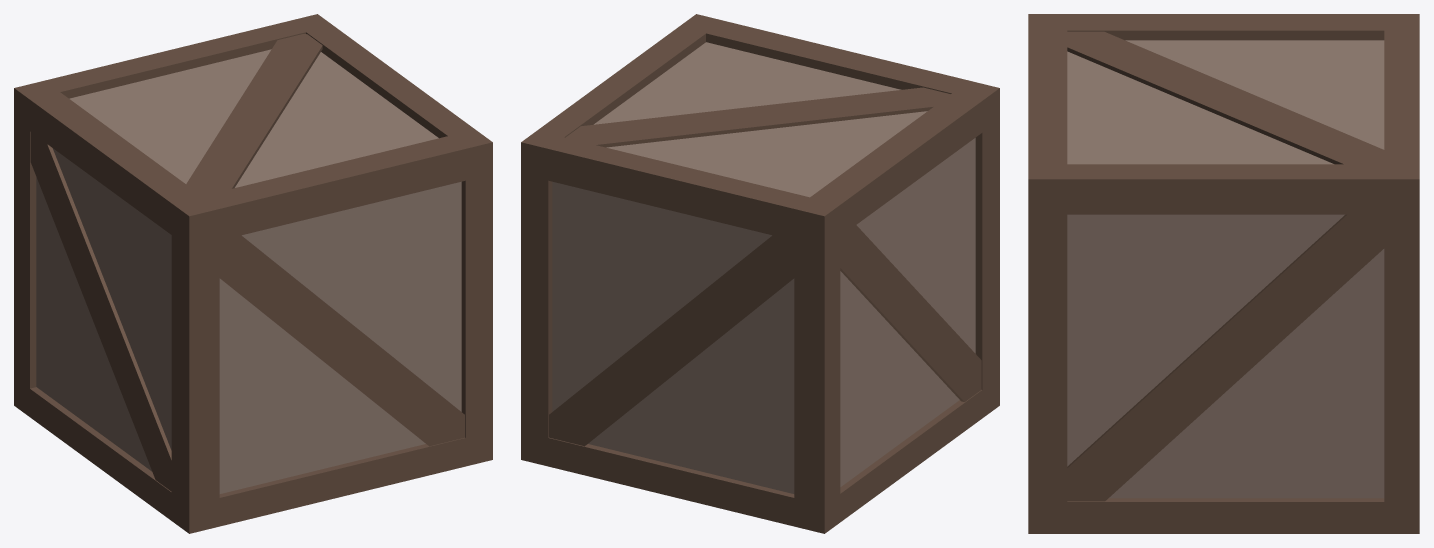
File: CaixaSeparado.fbx
3 renders of one model, left to right at view 1: azimuth 30°, elevation 25°; view 2: azimuth 150°, elevation 25°; view 3: azimuth 270°, elevation 25°, orthographic. The views are drawn at different scales.
Visible parts, largest first — view 1: polySurface10, polySurface12, polySurface11, polySurface13; view 2: polySurface10, polySurface9, polySurface13, polySurface11; view 3: polySurface10, polySurface14, polySurface13.
Boxes of the visible parts, x1,y1,x2,y2 form: polySurface10: (14,14,492,533); polySurface12: (219,235,464,446); polySurface11: (30,132,171,491); polySurface13: (186,34,322,195); polySurface10: (521,14,999,533); polySurface9: (549,235,794,446); polySurface13: (566,87,950,147); polySurface11: (840,225,981,401); polySurface10: (1028,14,1419,533); polySurface14: (1067,214,1384,501); polySurface13: (1067,31,1384,164).
Bounding box in the file's own units: 1 × 1 × 1.
